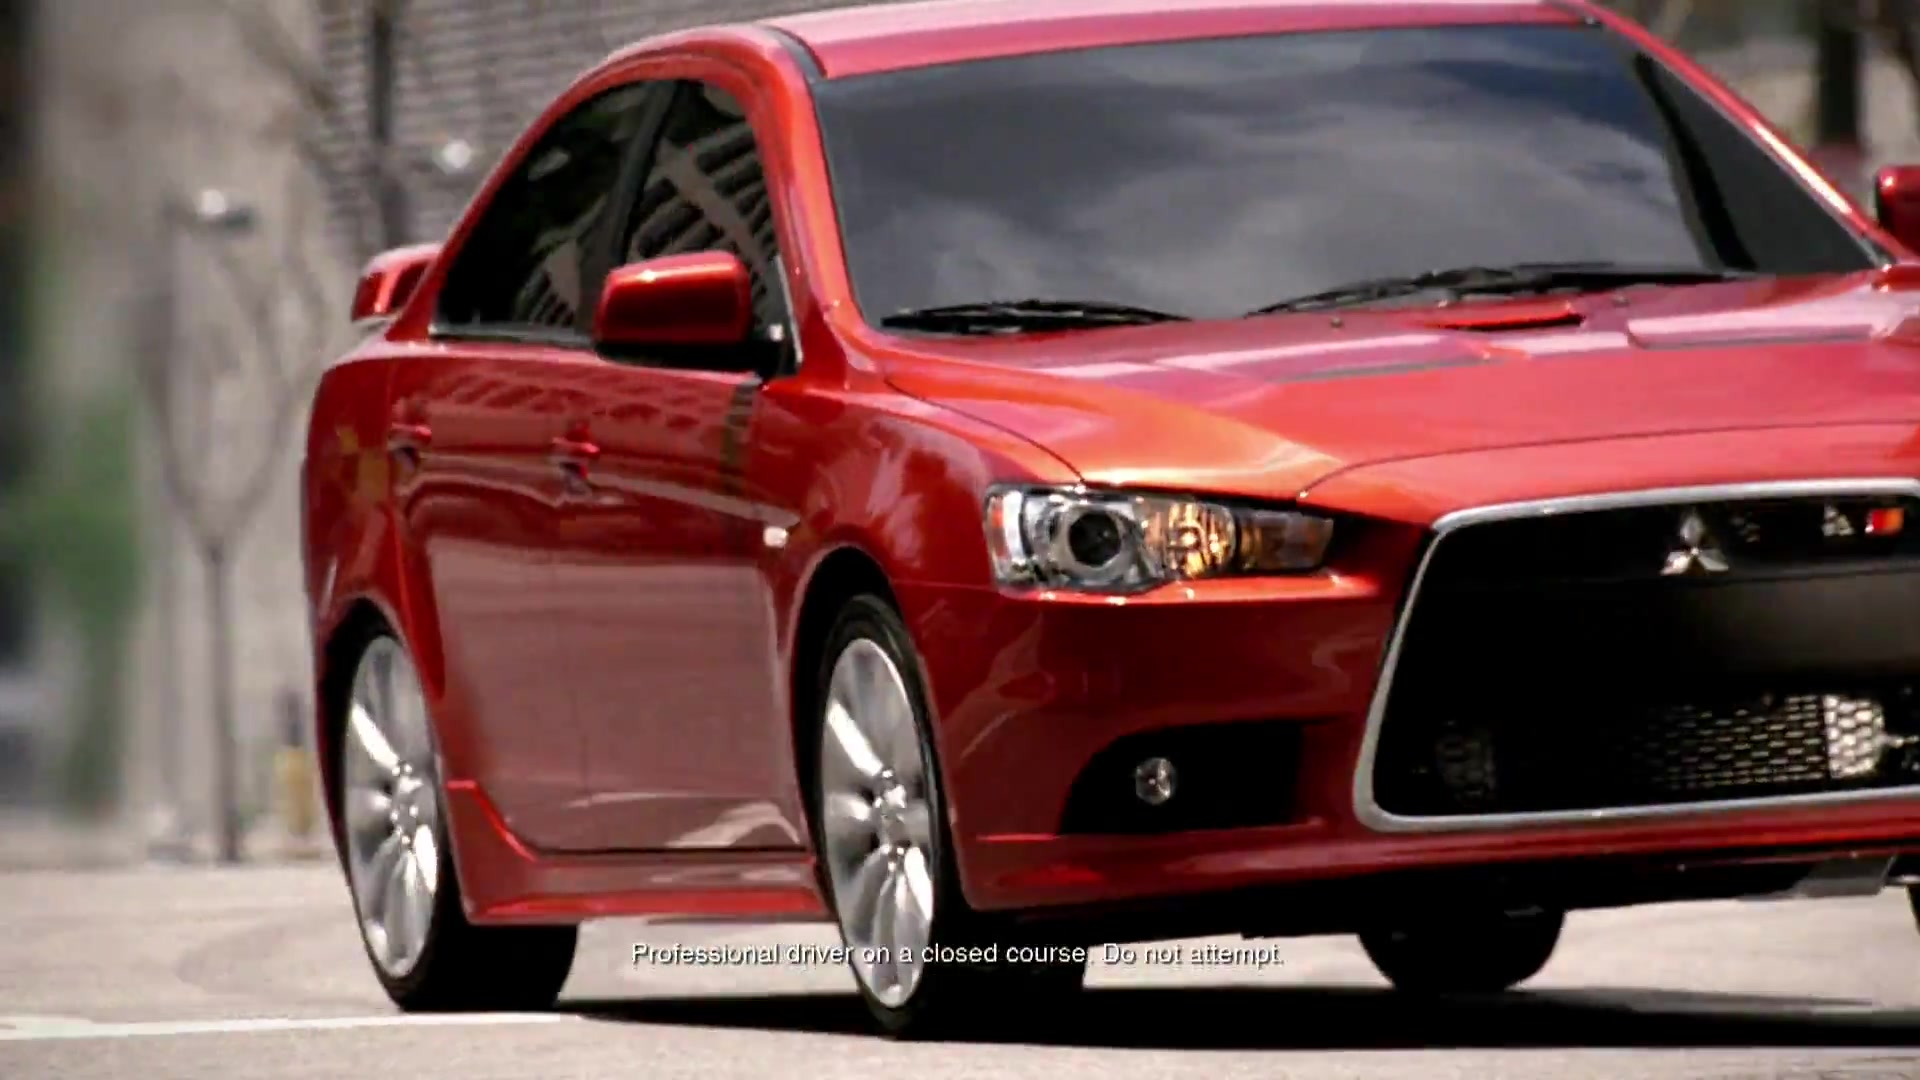car: (299, 7, 1920, 1036)
